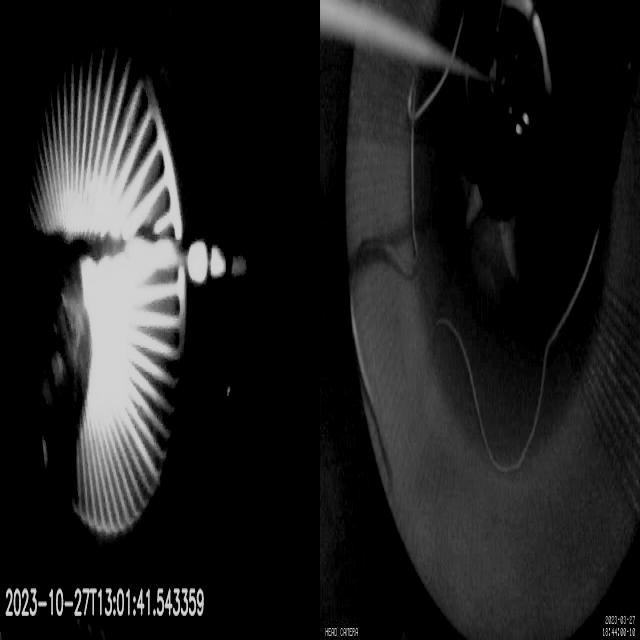white-dots: (187, 238, 248, 288)
